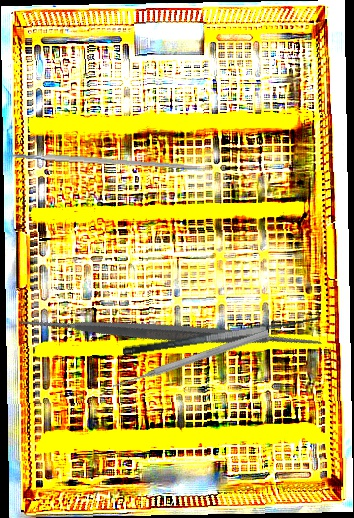Pusher: (110, 327, 271, 392)
Scalpel Handle: (12, 150, 198, 172)
Spatula Surgical: (10, 173, 330, 491), (120, 302, 322, 357)
